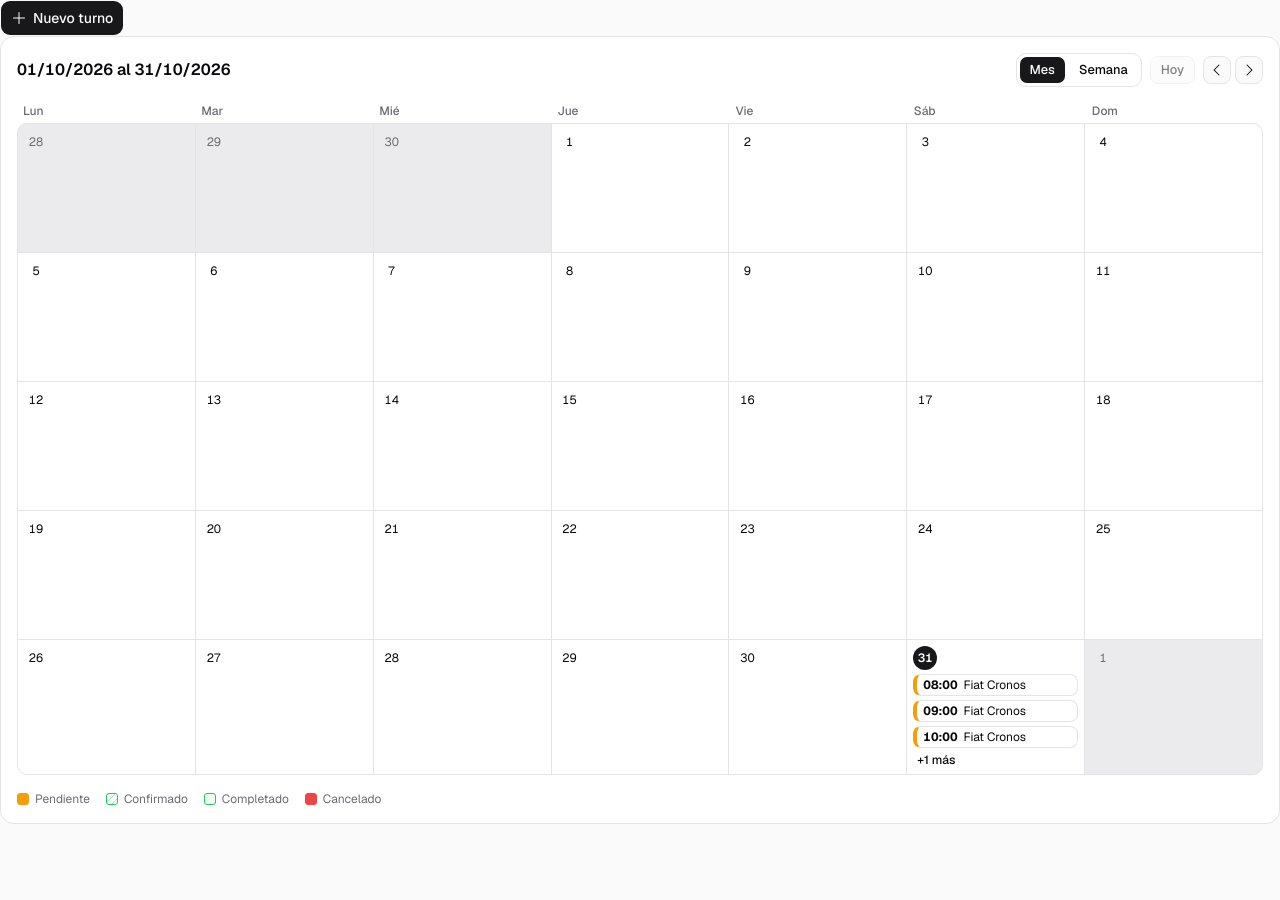
Test: AppointmentsCalendar crowded day › lists three and opens all of them in a popover titled with the date
This screenshot has width=1280, height=900.
What coordinates should you click on to do the following:
click the button "+1 más"
I would click on:
 (936, 760)
Its box is [913,752,960,768].
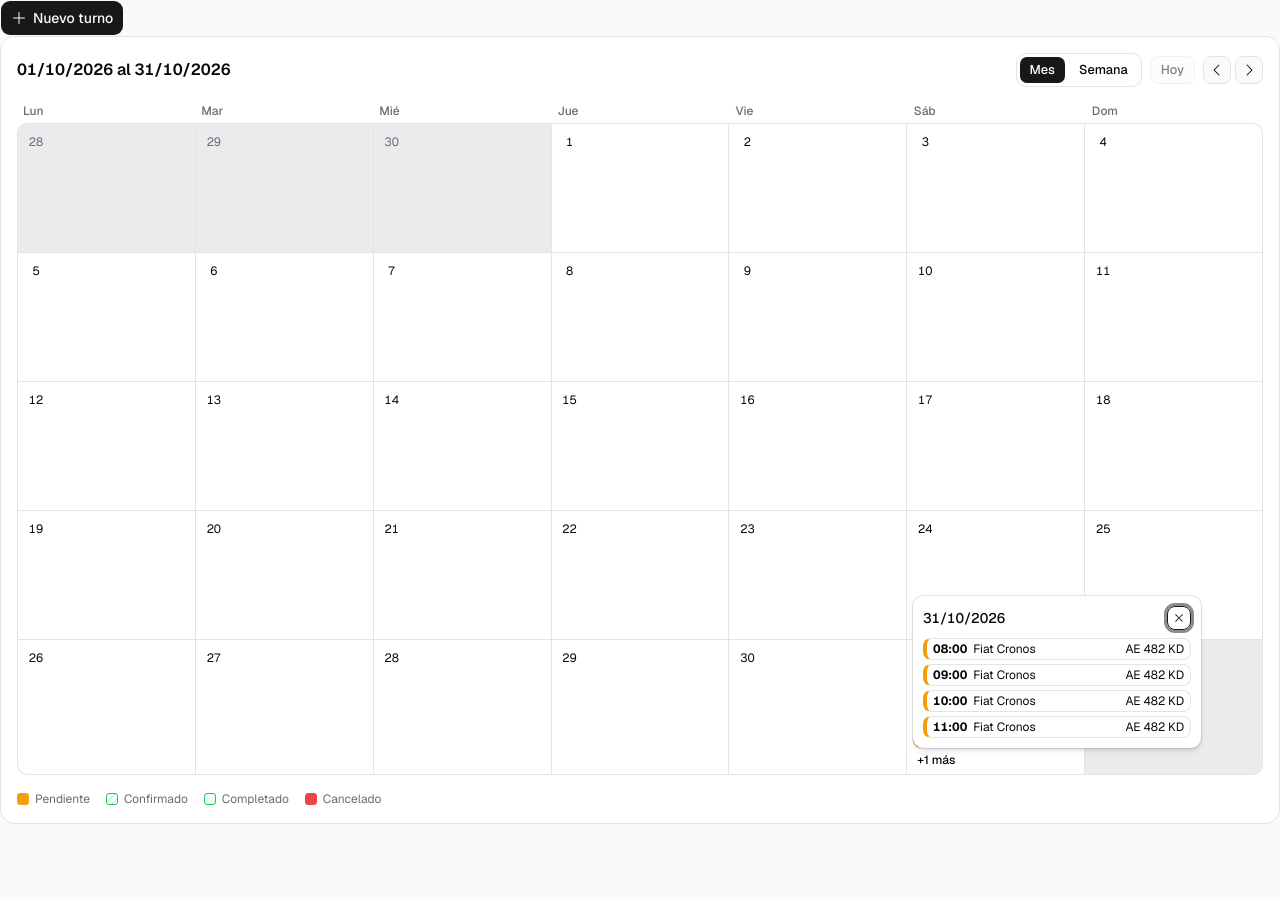
expect the number of buttons "08:00 Fiat Cronos AE 482 KD" is 4: met, box [923,638,1191,660]; [923,664,1191,686]; [923,690,1191,712]; [923,716,1191,738]
